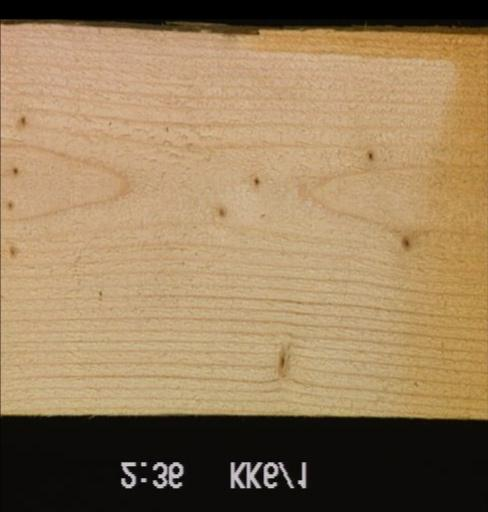small_knot: (387, 232, 425, 262), (269, 343, 296, 381), (0, 236, 25, 267), (0, 162, 30, 184), (357, 145, 382, 166), (248, 171, 268, 195), (14, 113, 35, 133), (211, 202, 233, 220), (0, 195, 18, 212)
wave: (156, 24, 483, 66)
